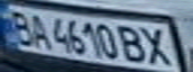0: (93, 20, 121, 61)
1: (78, 19, 100, 57)
4: (45, 15, 72, 53)
6: (63, 17, 87, 56)
A: (21, 11, 54, 50)
B: (0, 7, 39, 47), (115, 22, 151, 64)
X: (139, 24, 178, 67)
